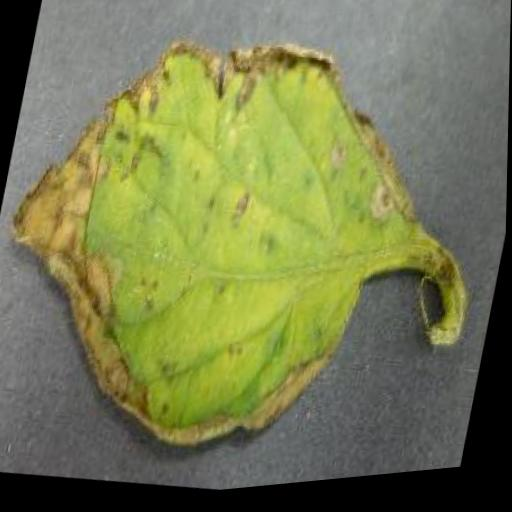Bacterial Spot: (0, 0, 453, 501)
